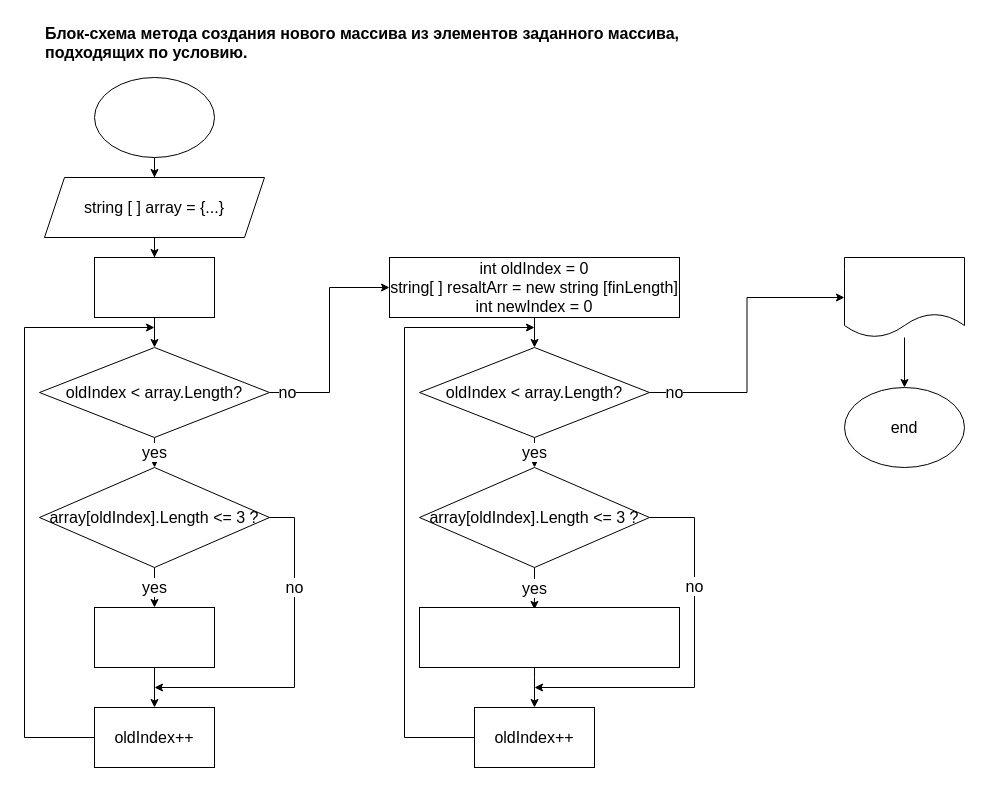
This 982x785 diagram has some shape labels left out. The centre of each missing label's shape, as x and y in pixels:
"finLength++" goes at point (154, 637).
"int finLength = 0 int oldIndex = 0" goes at point (154, 287).
"resaltArr" goes at point (904, 297).
"resaltArr[newIndex] = array[oldIndex] newIndex++" goes at point (549, 637).
"srart" goes at point (154, 117).
